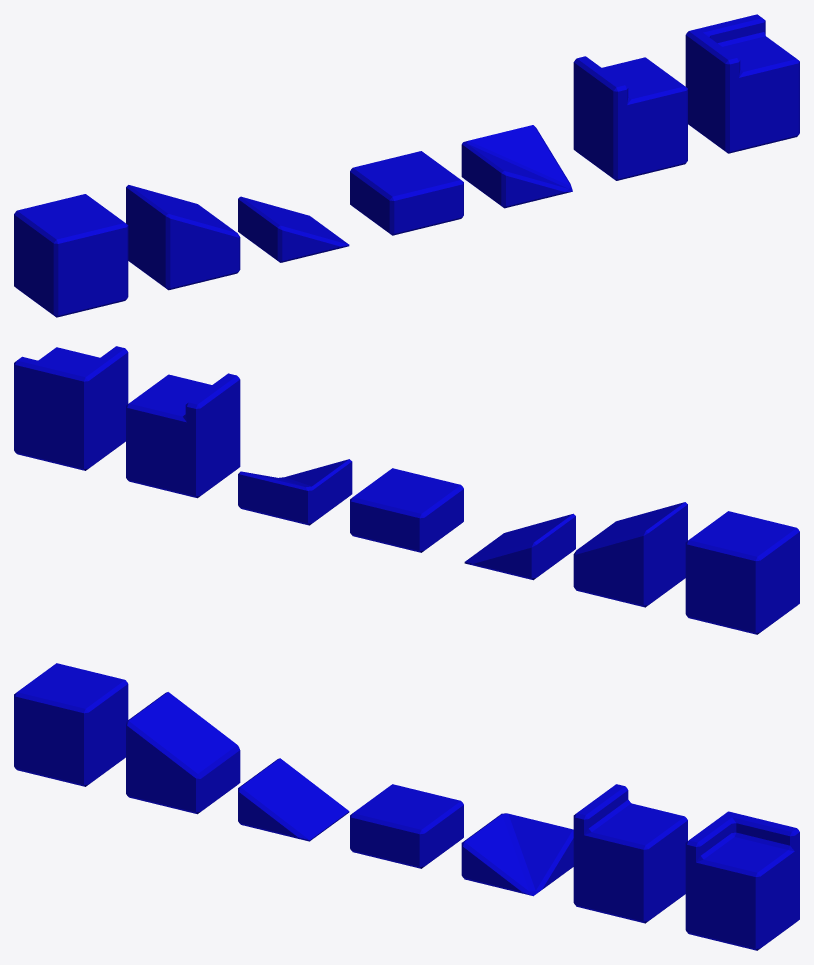
The model's file is world-blocks-v1.glb.
3 renders of one model, top to bottom at view 1: azimuth 30°, elevation 25°; view 2: azimuth 150°, elevation 25°; view 3: azimuth 330°, elevation 25°, orthographic.
Visible parts, largest first — view 1: CornerWall, Wall, Block, RampTop, LowBlock, CornerBlock, RampBottom; view 2: CornerWall, Wall, Block, RampTop, LowBlock, CornerBlock, RampBottom; view 3: CornerWall, Wall, Block, RampTop, LowBlock, CornerBlock, RampBottom.
Part boxes in pixels (x1,y1,x2,y2): CornerWall: (685, 14, 799, 153); Wall: (573, 56, 687, 180); Block: (14, 194, 128, 317); RampTop: (126, 185, 240, 290); LowBlock: (350, 151, 463, 235); CornerBlock: (461, 125, 572, 208); RampBottom: (238, 196, 349, 262); CornerWall: (14, 346, 128, 470); Wall: (126, 373, 240, 498); Block: (685, 511, 799, 634); RampTop: (573, 502, 687, 607); LowBlock: (350, 468, 463, 552); CornerBlock: (238, 459, 352, 525); RampBottom: (464, 513, 575, 580); CornerWall: (685, 811, 799, 950); Wall: (573, 784, 687, 923); Block: (14, 663, 128, 786); RampTop: (126, 692, 240, 814); LowBlock: (350, 784, 463, 868); CornerBlock: (461, 813, 573, 896); RampBottom: (238, 758, 349, 841).
Size of what is drawn, in the model's own units: 20 by 2.4 by 2.
